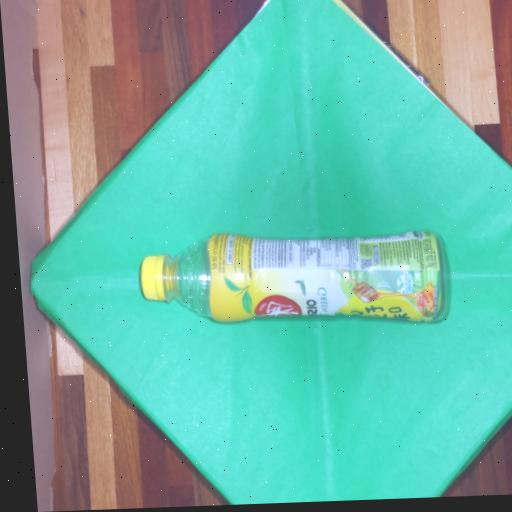bottle: (140, 232, 444, 322)
